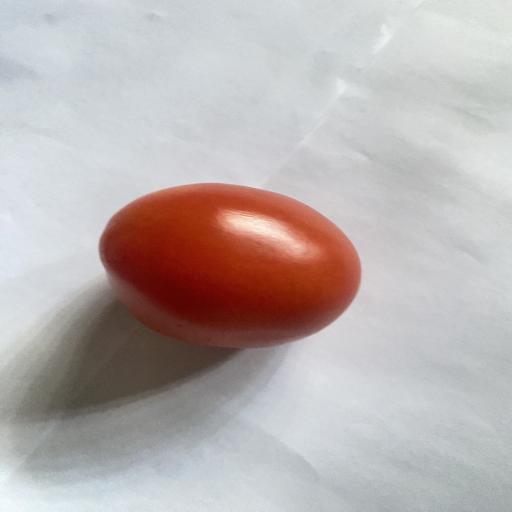ripe: (99, 183, 361, 348)
